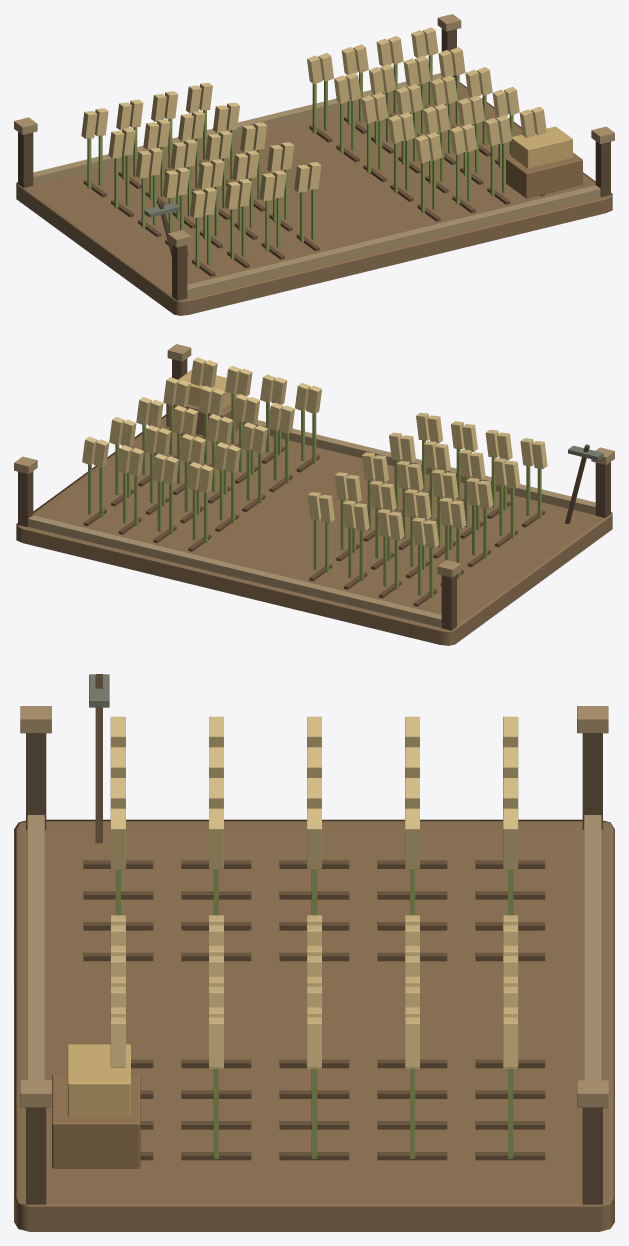
File: wheatfield-3.glb
3 views of the same model, one above another, from view 1: azimuth 30°, elevation 25°; view 2: azimuth 150°, elevation 25°; view 3: azimuth 270°, elevation 25° (orthographic). The views are drawn at different scales.
Parts seen in each view (by area): view 1: wheatfield-3-0, crop-patch; view 2: wheatfield-3-0, crop-patch; view 3: wheatfield-3-0, crop-patch.
Boxes of the visible parts, box(x1,y1,x2,y2) form: wheatfield-3-0: box(14, 14, 614, 315); crop-patch: box(81, 27, 546, 268); wheatfield-3-0: box(14, 344, 614, 645); crop-patch: box(82, 357, 547, 598); wheatfield-3-0: box(14, 674, 614, 1231); crop-patch: box(110, 716, 518, 1158).
Size of the model in its own units: 2.95 by 0.6136 by 1.9.
